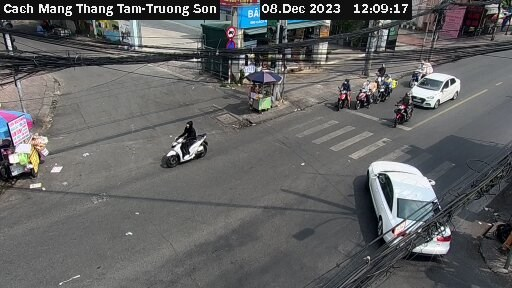car: (366, 156, 459, 251), (408, 72, 461, 110)
motorbike: (162, 124, 217, 176), (387, 97, 423, 126), (350, 83, 377, 112), (331, 79, 355, 109)
